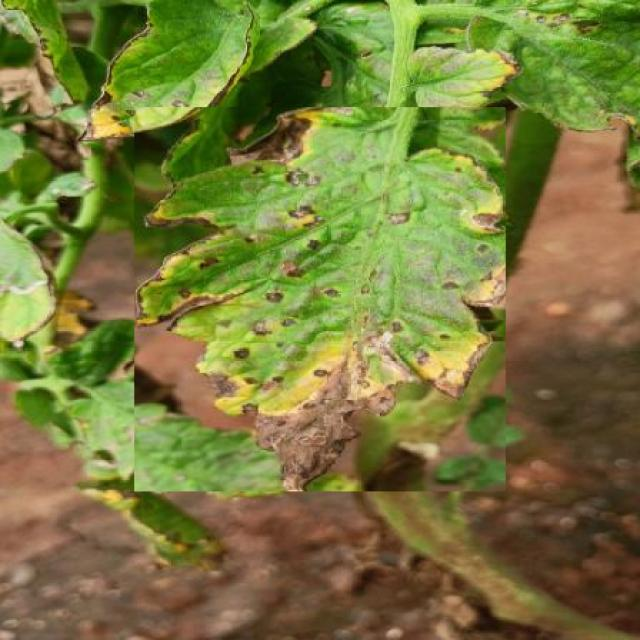Early Blight: (135, 107, 506, 492)
